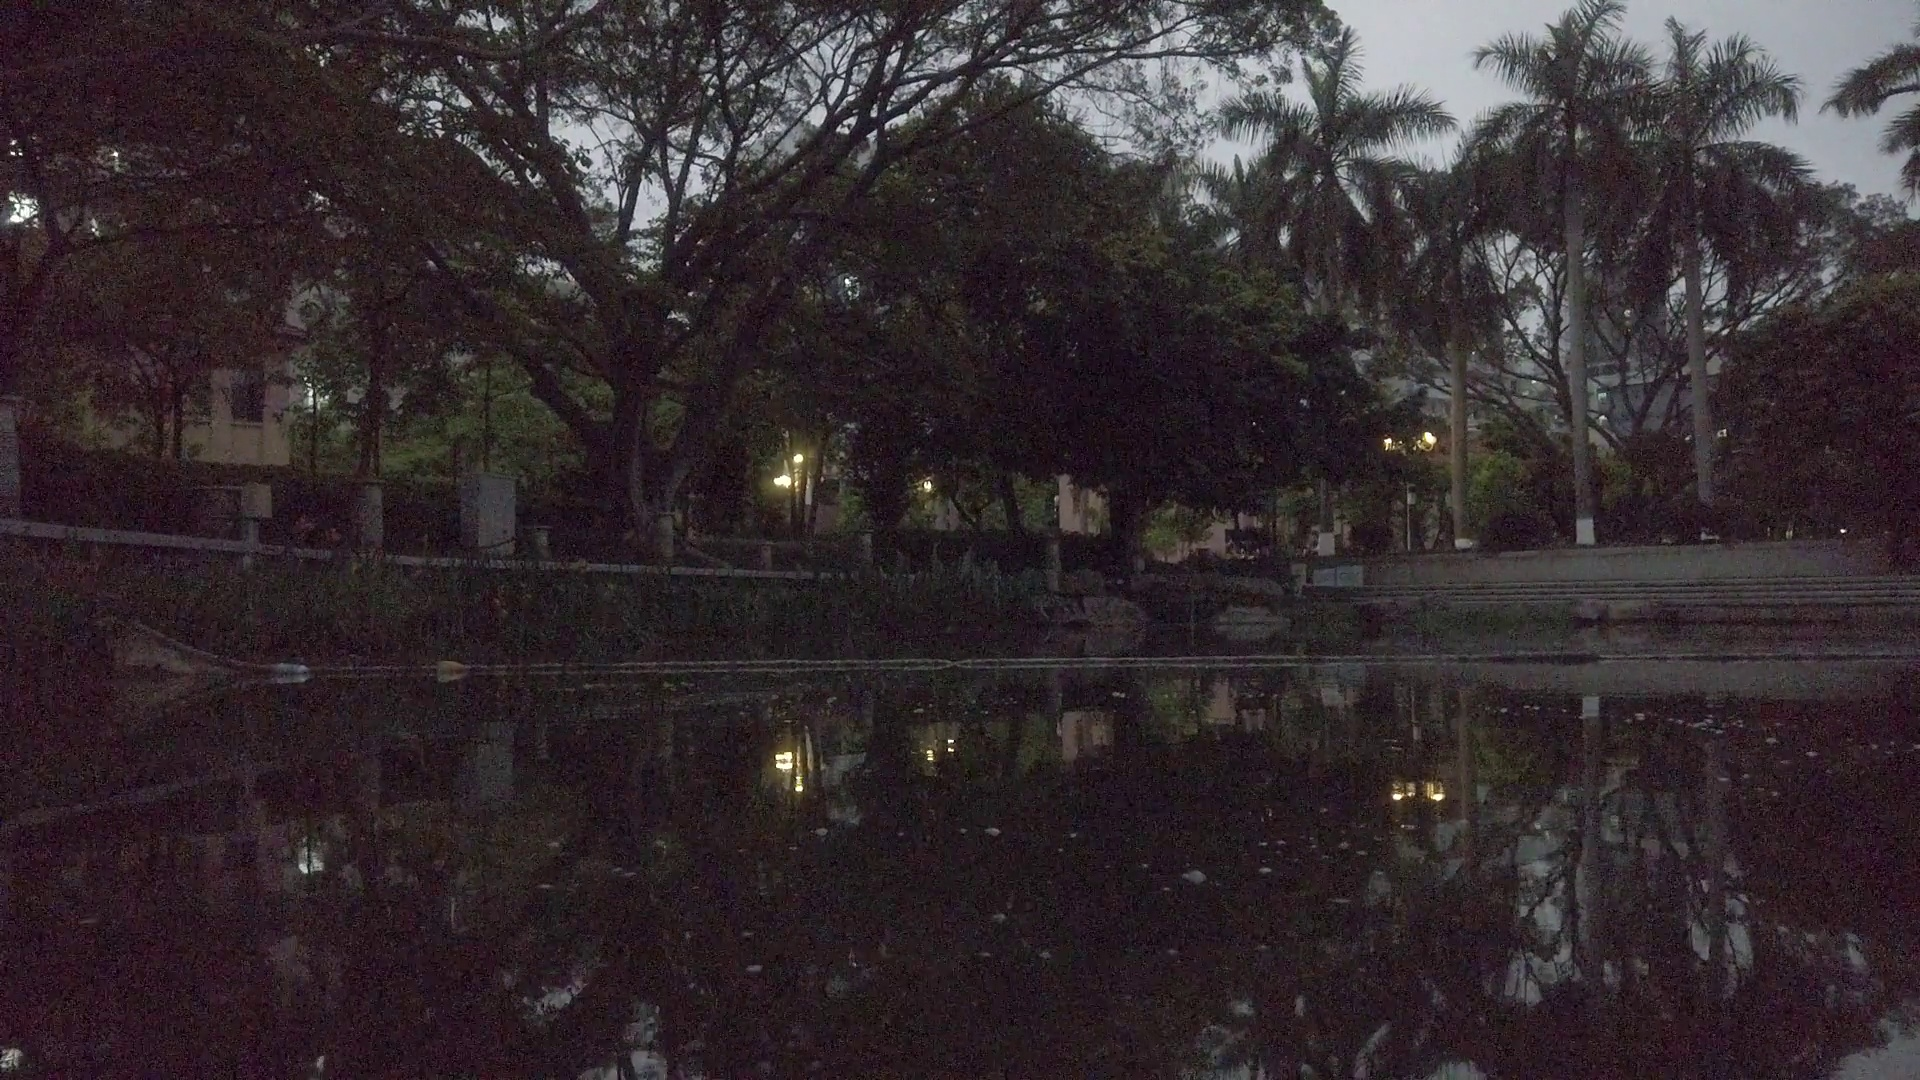bottle: (276, 661, 310, 682), (436, 662, 467, 679)
